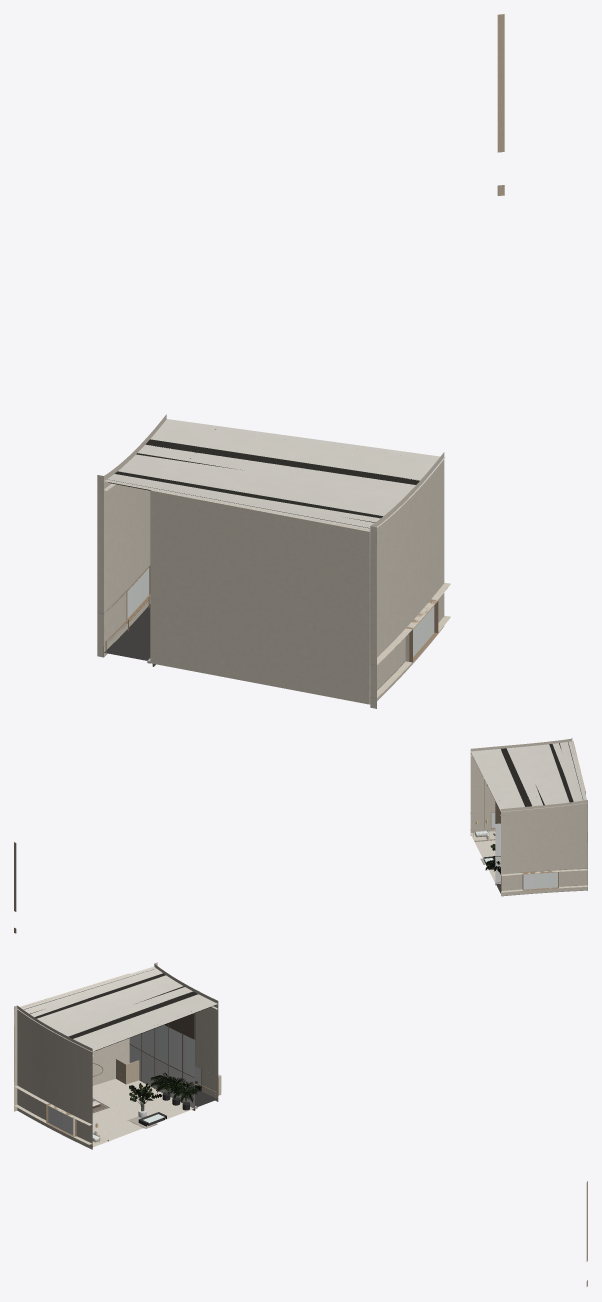
3 renders of one model, top to bottom at view 1: azimuth 30°, elevation 25°; view 2: azimuth 150°, elevation 25°; view 3: azimuth 270°, elevation 25°, orthographic. The views are drawn at different scales.
Parts seen in each view (by area): view 1: c1380; view 2: c1380; view 3: c1380, c1380 leaves.
Part boxes in pixels (x1=…): c1380: x1=97, y1=14, x2=504, y2=708; c1380: x1=14, y1=738, x2=587, y2=933; c1380: x1=14, y1=962, x2=587, y2=1286; c1380 leaves: x1=94, y1=1005, x2=215, y2=1127.
Size of the model in its own units: 61.57 by 13.73 by 67.9.
15 materials, 2 textured.
